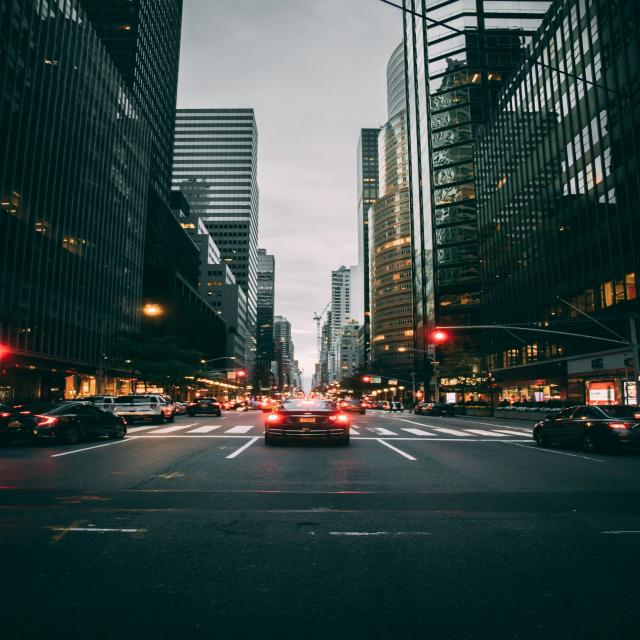Car: (0, 402, 127, 444), (532, 404, 640, 453), (264, 398, 350, 446), (186, 398, 222, 417), (340, 399, 366, 414)
